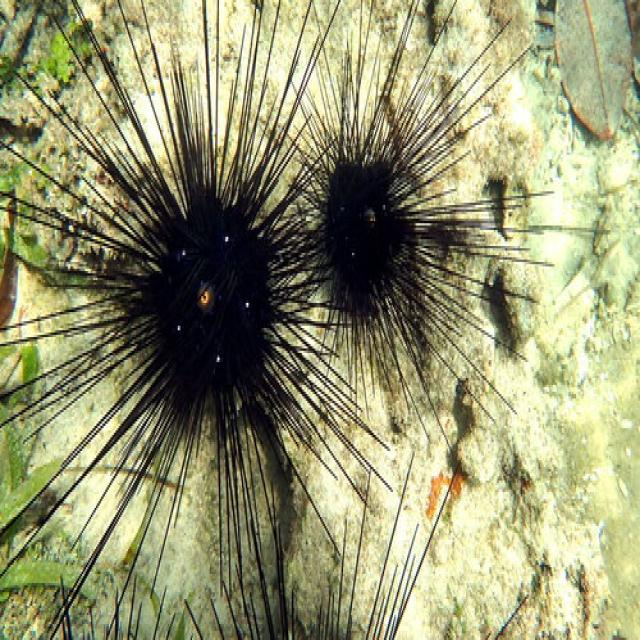Urchin: (5, 2, 396, 549), (262, 2, 578, 449)
